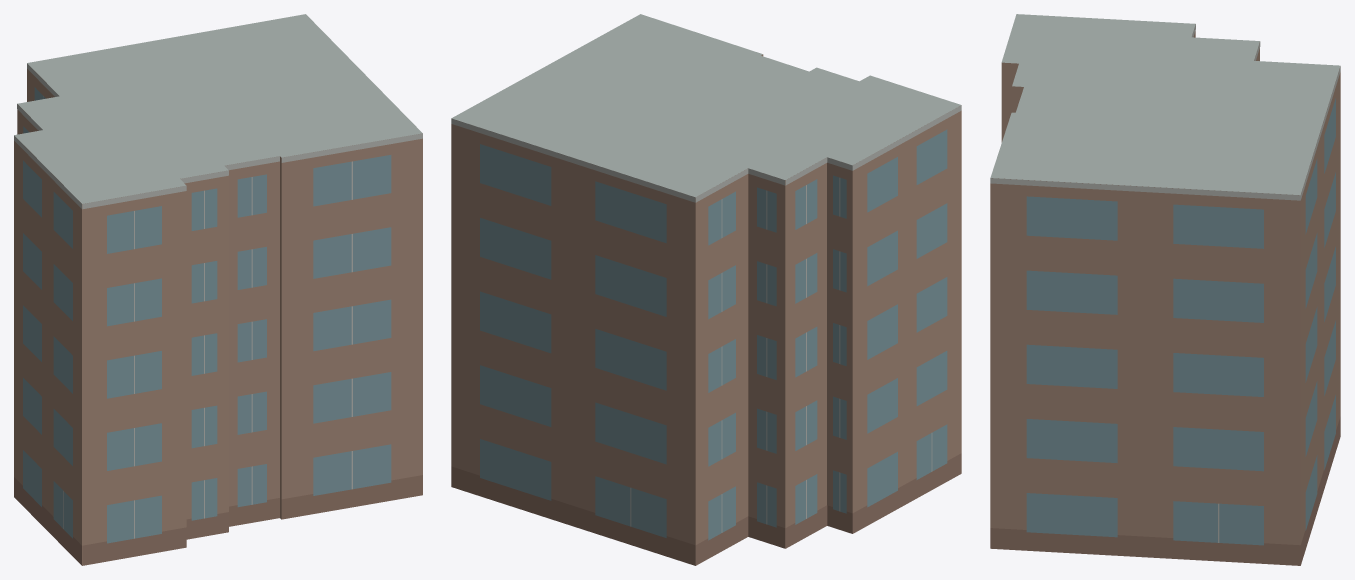
The model's file is survey-upis-32689985.glb.
3 views of the same model, side by side, from view 1: azimuth 30°, elevation 25°; view 2: azimuth 150°, elevation 25°; view 3: azimuth 270°, elevation 25° (orthographic). The views are drawn at different scales.
Visible parts, largest first — view 1: survey-upis-32689985.tmp; view 2: survey-upis-32689985.tmp; view 3: survey-upis-32689985.tmp.
Boxes of the visible parts, x1,y1,x2,y2 form: survey-upis-32689985.tmp: (14,14,422,565); survey-upis-32689985.tmp: (451,14,961,565); survey-upis-32689985.tmp: (990,14,1340,565).
Bounding box in the file's own units: 17.25 × 16.45 × 14.1.
